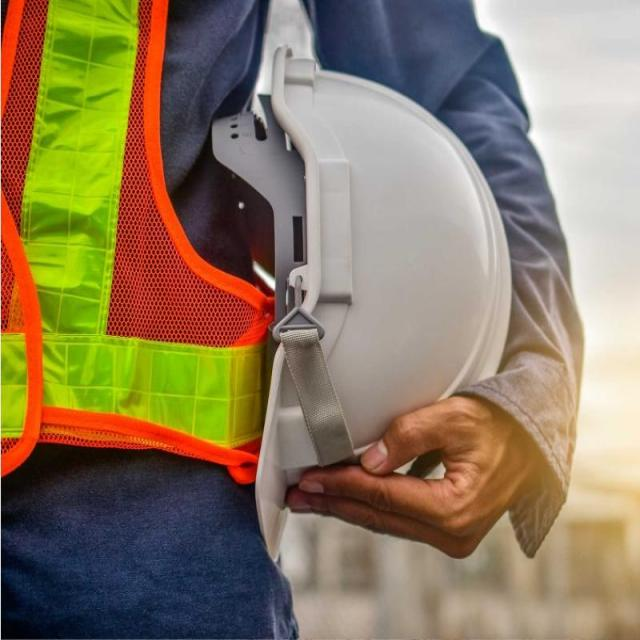Reflective-Jacket: (1, 1, 273, 486)
Safety-Helmet: (247, 23, 513, 567)
